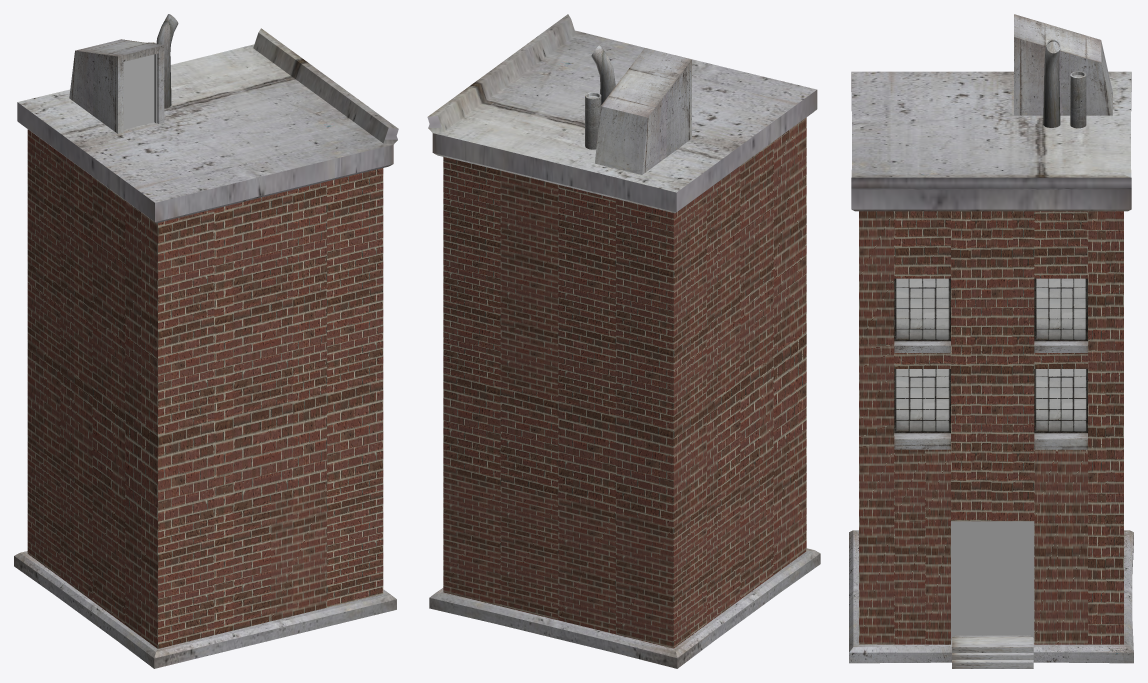
Rendered from BuildingDous.fbx.
3 views of the same model, side by side, from view 1: azimuth 30°, elevation 25°; view 2: azimuth 150°, elevation 25°; view 3: azimuth 270°, elevation 25° (orthographic). The views are drawn at different scales.
Parts seen in each view (by area): view 1: pCube26; view 2: pCube26; view 3: pCube26.
Part boxes in pixels (x1=…): pCube26: x1=14, y1=14, x2=398, y2=668; pCube26: x1=427, y1=14, x2=820, y2=668; pCube26: x1=849, y1=14, x2=1133, y2=668.
Size of the model in its own units: 1.13 by 2.34 by 1.08.
